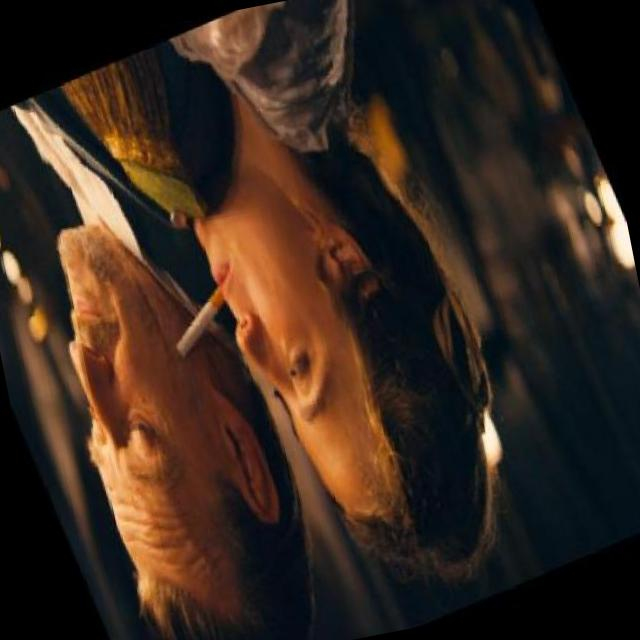smoke: (152, 278, 242, 363)
